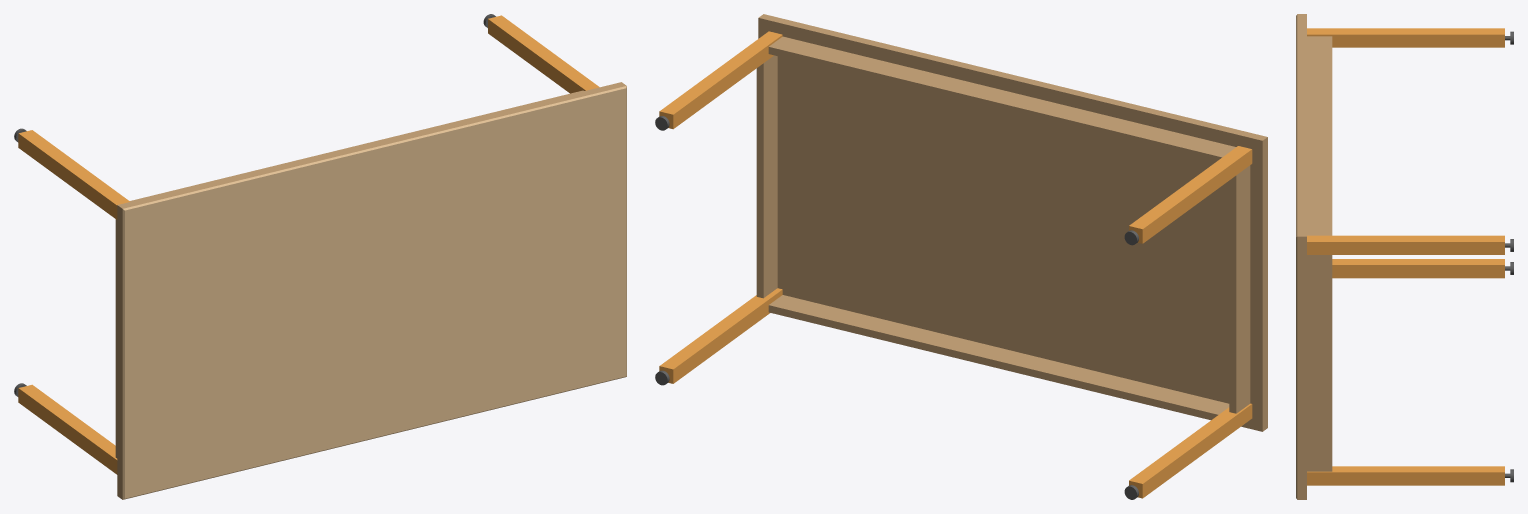
File: work_table_1450x800.glb
3 views of the same model, side by side, from view 1: azimuth 30°, elevation 25°; view 2: azimuth 150°, elevation 25°; view 3: azimuth 270°, elevation 25° (orthographic). The views are drawn at different scales.
Parts seen in each view (by area): view 1: wood_top_face, orange_powder_coat, wood_top_edge; view 2: wood_top_edge, orange_powder_coat, foot_dark; view 3: wood_top_edge, orange_powder_coat, wood_top_face, foot_dark.
Boxes of the visible parts, left/top/right/bottom form: wood_top_face: left=122, top=86, right=626, bottom=499; orange_powder_coat: left=18, top=15, right=599, bottom=474; wood_top_edge: left=115, top=82, right=626, bottom=499; wood_top_edge: left=756, top=14, right=1267, bottom=431; orange_powder_coat: left=659, top=31, right=1252, bottom=498; foot_dark: left=655, top=116, right=1138, bottom=499; wood_top_edge: left=1297, top=14, right=1332, bottom=499; orange_powder_coat: left=1307, top=28, right=1504, bottom=485; wood_top_face: left=1296, top=14, right=1297, bottom=499; foot_dark: left=1505, top=31, right=1513, bottom=482.
Size of the model in its own units: 1.45 by 0.8 by 0.6.
